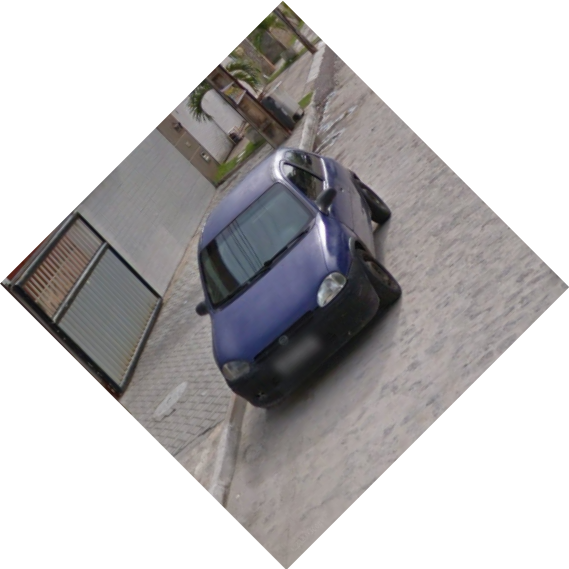car: (192, 146, 404, 409)
